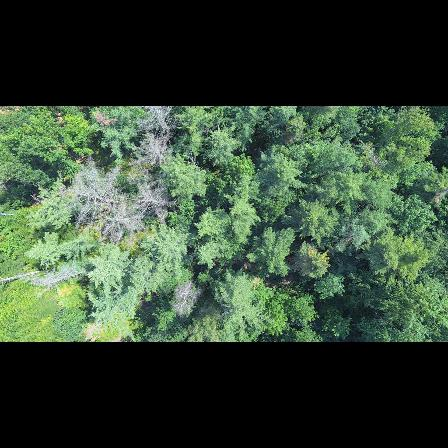Dead: (66, 170, 122, 211), (128, 175, 180, 217), (106, 200, 145, 242), (131, 128, 172, 165), (168, 275, 201, 315), (142, 106, 177, 139)
